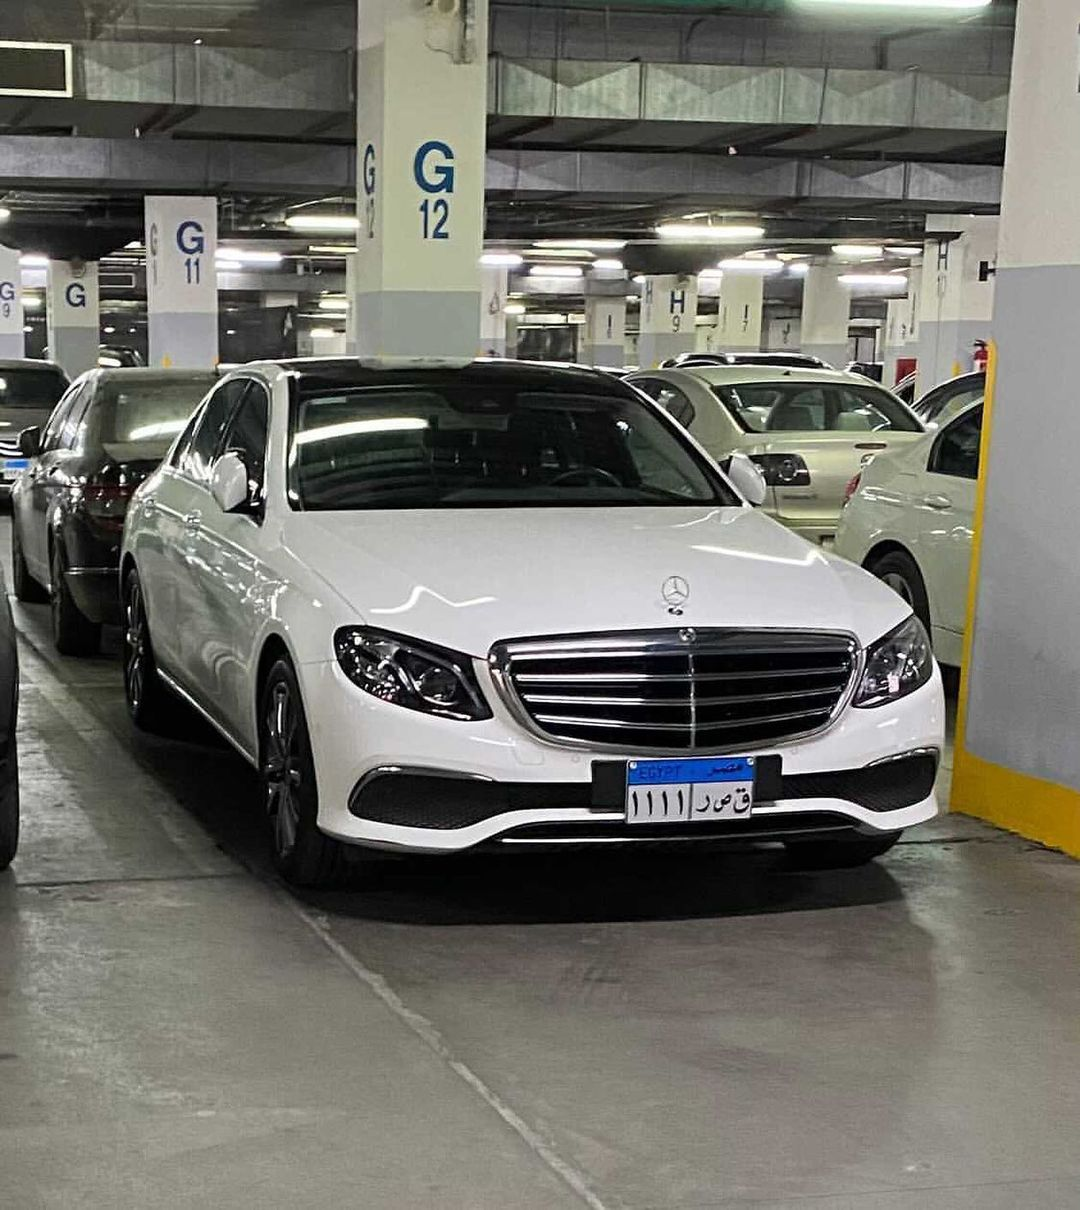carpl: (622, 751, 775, 826)
